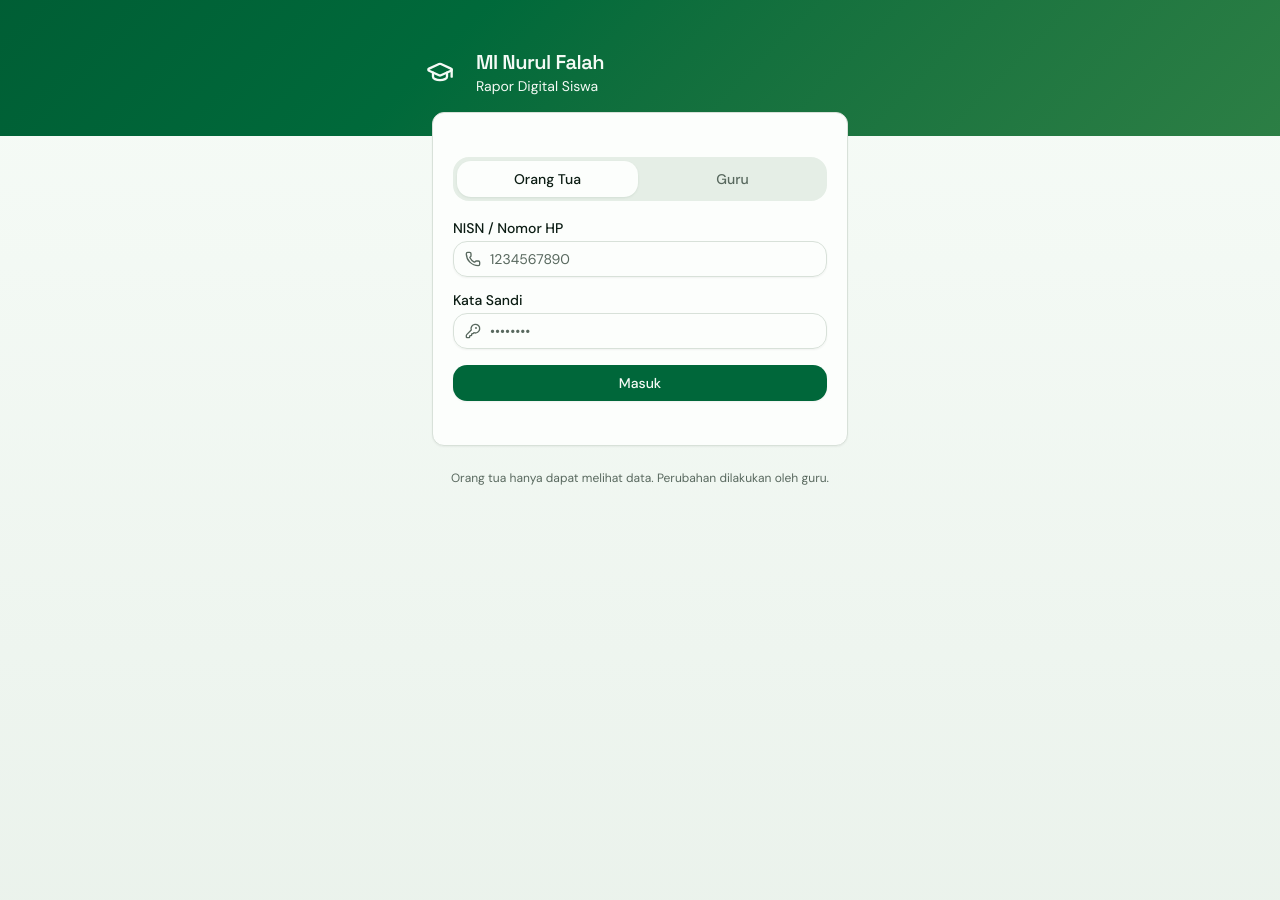
Test case: LoginPage › shows the seeded teacher credentials as a hint
Click the tab with test id "login.tab.guru". click: click(732, 179)
box: [642,161,823,197]
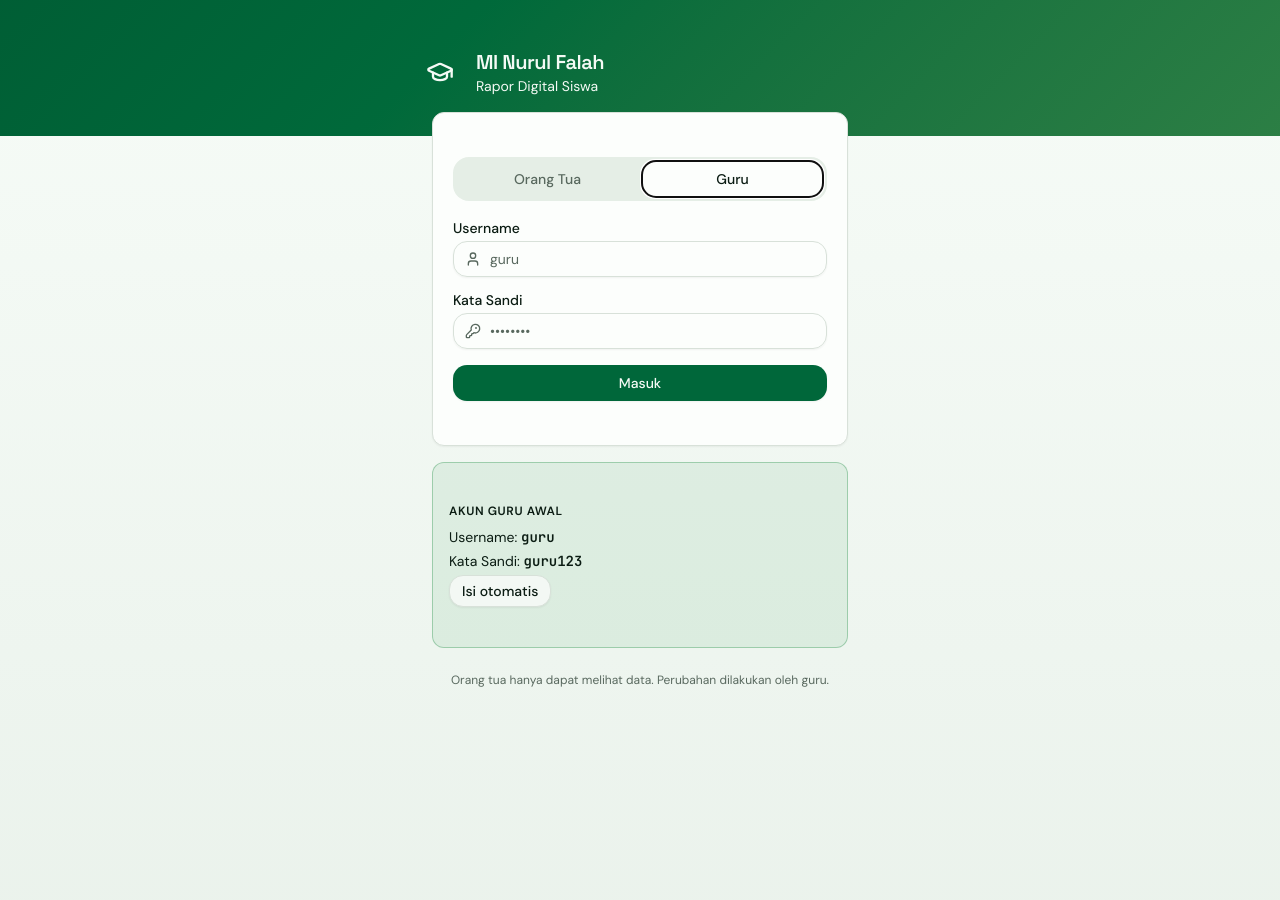
Expected: the element with test id "login.teacher_credentials" shows "Guru", [521,528,555,546]
Expected: the element with test id "login.teacher_credentials" shows "guru123", [524,552,582,570]
